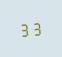three: (19, 21, 30, 37), (31, 20, 42, 35)
